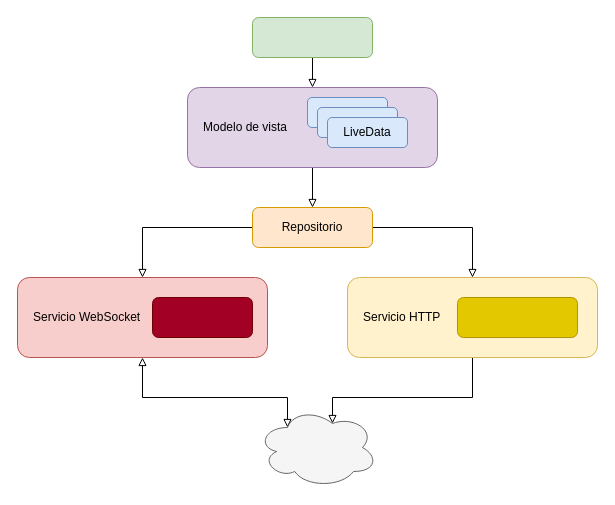
Some shapes in this 615 by 505 pixel diagram are drawn without their labels. Here are the shapes that lost their labels. From the top down, the centre of each, then its label:
pixel 312 37: Vista / Fragmento
pixel 202 317: SocketIO
pixel 517 317: Retrofit2
pixel 317 447: API
